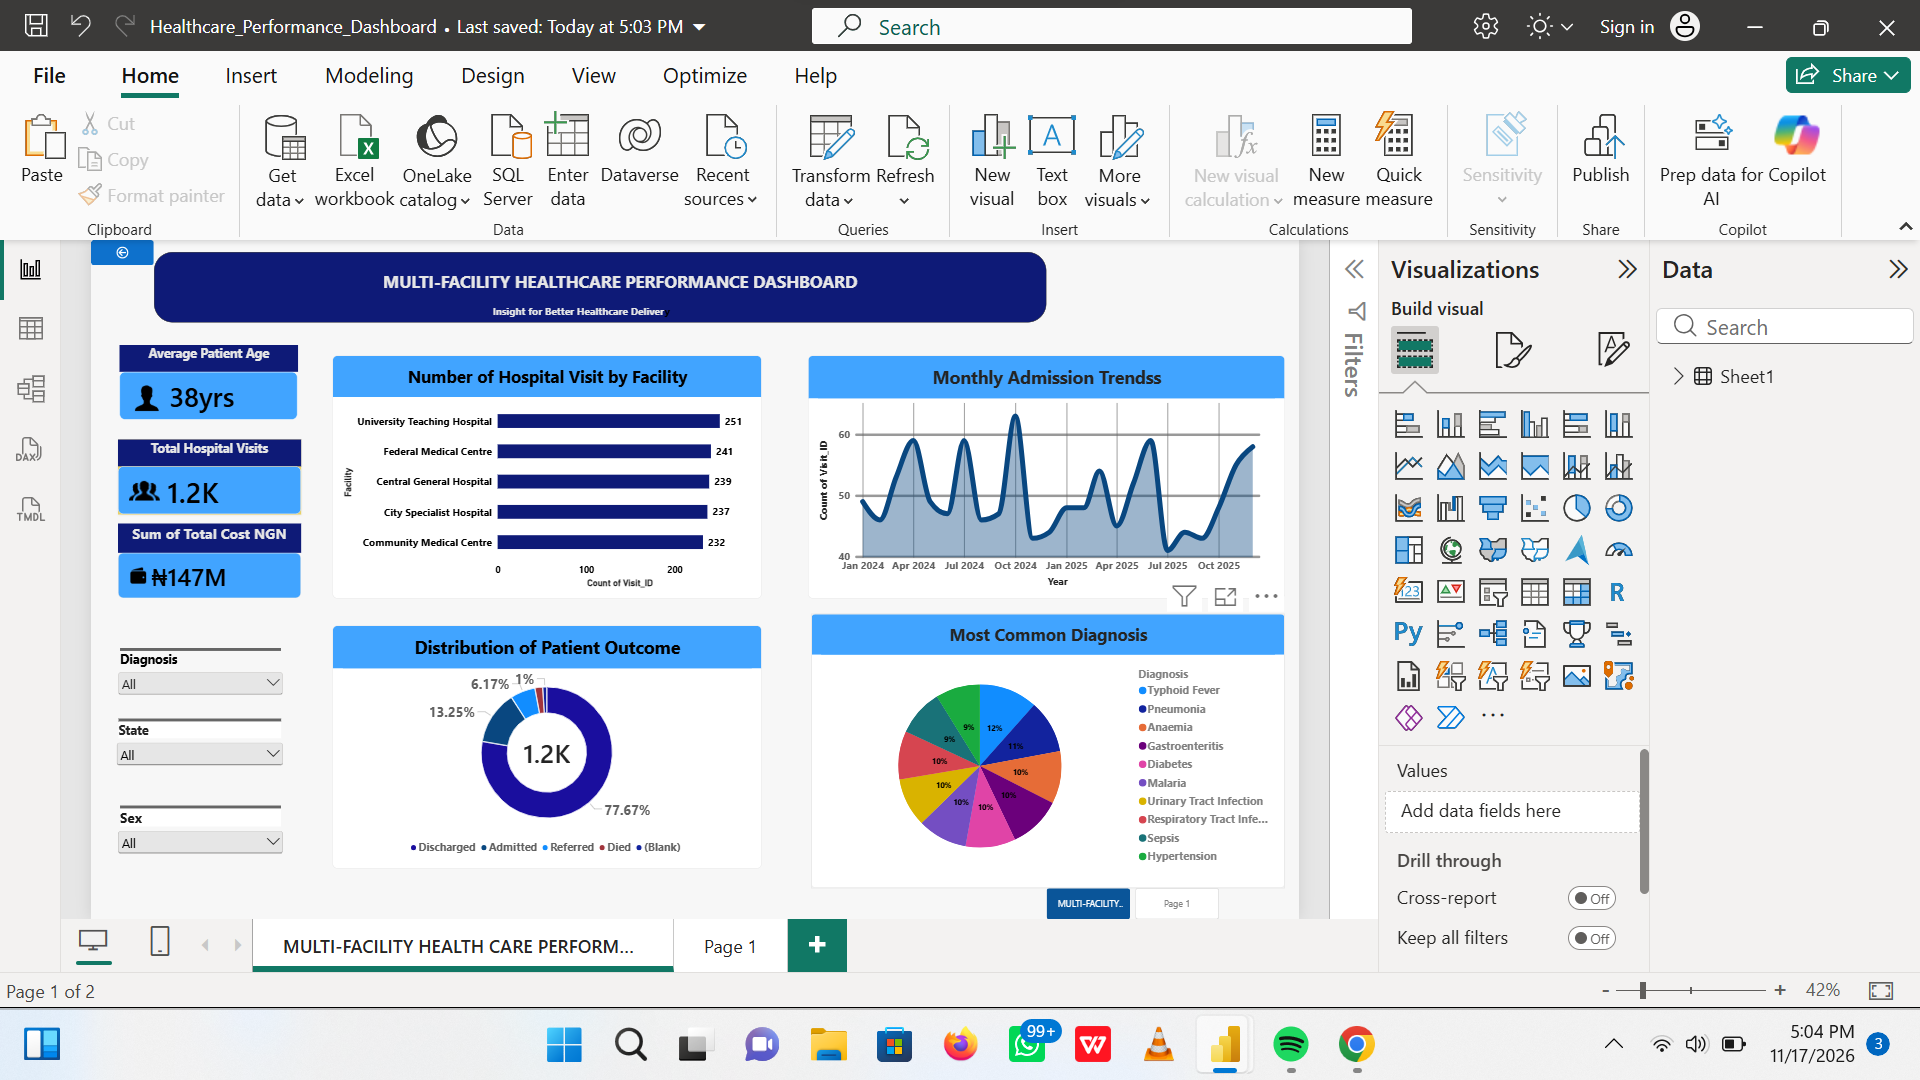

The dashboard page shown, as its layout file describes it:
{"tool":"powerbi","page":{"name":"MULTI-FACILITY HEALTH CARE PERFORMANCE DASH BOARD","canvas":[1920,1080],"ordinal":0},"visuals":[{"type":"clusteredBarChart","title":"Number of Hospital Visit by Facility","fields":{"Category":["Sheet1.Facility"],"Y":["CountNonNull(Sheet1.Visit_ID)"]},"box":[384.1,183.7,682.4,386.5],"z":0},{"type":"cardVisual","title":"Total Hospital Visits","fields":{"Data":["CountNonNull(Sheet1.Visit_ID)"]},"box":[42.9,317.3,291.1,119.3],"z":1000},{"type":"cardVisual","title":"Sum of Total Cost NGN","fields":{"Data":["Sum(Sheet1.Total_Cost_NGN)"]},"box":[42.9,450.9,291.1,119.3],"z":2000},{"type":"donutChart","title":"Distribution of Patient Outcome","fields":{"Category":["Sheet1.Outcome"],"Y":["CountNonNull(Sheet1.Visit_ID)"]},"box":[384.1,613.2,682.4,386.5],"z":3000},{"type":"cardVisual","title":"Average Patient Age ","fields":{"Data":["Sheet1.Average Age Display"]},"box":[45.3,167,283.9,119.3],"z":4000},{"type":"areaChart","title":"Monthly Admission Trendss ","fields":{"Category":["Sheet1.Admission_Date.Variation.Date Hierarchy.Year","Sheet1.Admission_Date.Variation.Date Hierarchy.Quarter","Sheet1.Admission_Date.Variation.Date Hierarchy.Month"],"Y":["CountNonNull(Sheet1.Visit_ID)"]},"box":[1140.5,183.7,758.7,386.5],"z":5000},{"type":"slicer","fields":{"Values":["Sheet1.State"]},"box":[35.8,761.1,274.4,89.6],"z":6000},{"type":"actionButton","box":[0,0,100,40],"z":7000},{"type":"slicer","fields":{"Values":["Sheet1.Sex"]},"box":[38.2,899.5,272,100.2],"z":8000},{"type":"slicer","fields":{"Values":["Sheet1.Diagnosis"]},"box":[38.2,649,272,76.3],"z":9000},{"type":"pageNavigator","box":[1519.8,1030.7,274.4,50.1],"z":10000},{"type":"textbox","box":[100.2,19.1,1419.6,112.1],"z":12000},{"type":"pieChart","title":"Most Common Diagnosis","fields":{"Category":["Sheet1.Diagnosis"],"Y":["CountNonNull(Sheet1.Visit_ID)"]},"box":[1145.2,594.1,753.9,436.6],"z":12001}]}

Visuals, with their boxes on the page's 1920x1080 design canvas (x1, y1, x2, y2). These are canvas units, not pixel positions in the 1920x1080 screenshot, which may show the page scaled, cropped or inside an application window:
"Number of Hospital Visit by Facility" clusteredBarChart: 384:184:1066:570
"Total Hospital Visits" cardVisual: 43:317:334:437
"Sum of Total Cost NGN" cardVisual: 43:451:334:570
"Distribution of Patient Outcome" donutChart: 384:613:1066:1000
"Average Patient Age " cardVisual: 45:167:329:286
"Monthly Admission Trendss " areaChart: 1140:184:1899:570
slicer - Sheet1.State: 36:761:310:851
actionButton: 0:0:100:40
slicer - Sheet1.Sex: 38:900:310:1000
slicer - Sheet1.Diagnosis: 38:649:310:725
pageNavigator: 1520:1031:1794:1081
textbox: 100:19:1520:131
"Most Common Diagnosis" pieChart: 1145:594:1899:1031
